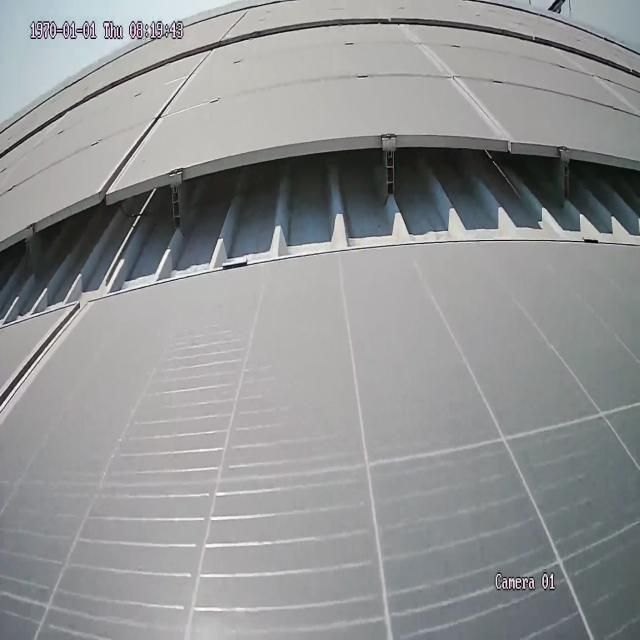interior panel: (101, 58, 209, 171), (403, 31, 516, 132), (4, 321, 73, 419)
outher panel: (2, 137, 640, 327)
